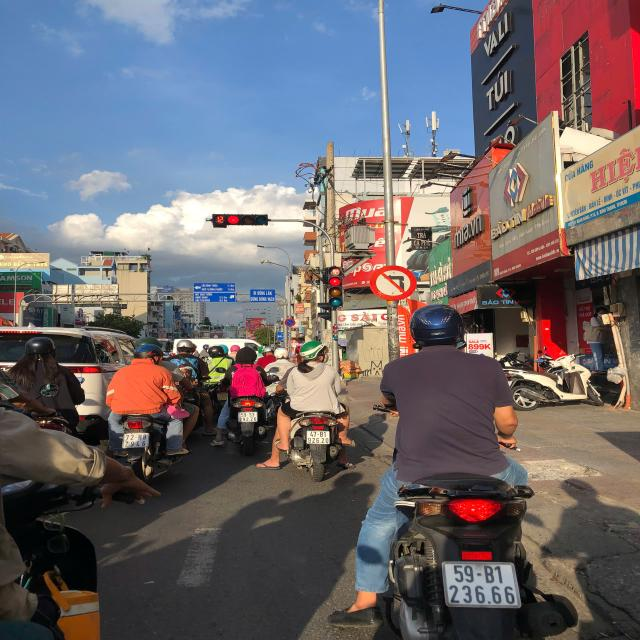Bien bao cam re trai: (365, 262, 419, 300)
